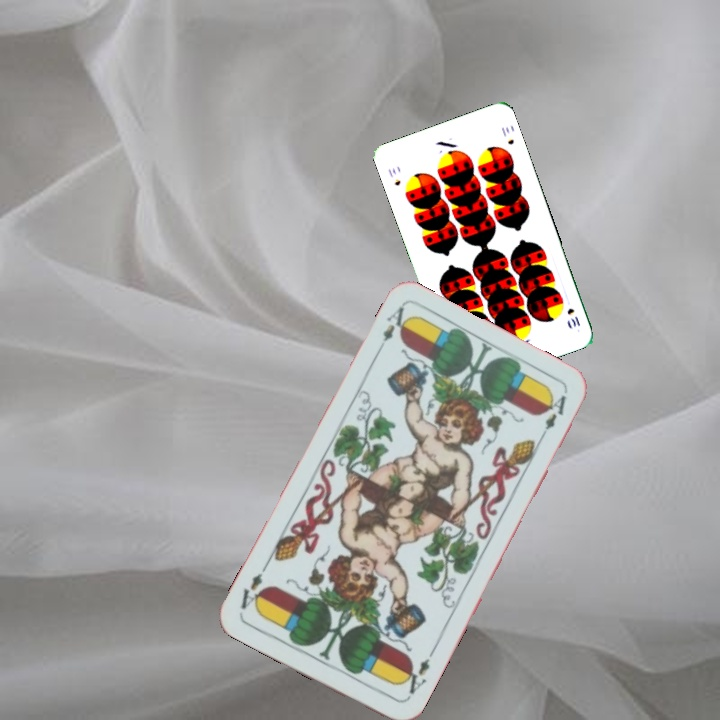EA: (372, 302, 413, 357), (397, 647, 436, 702)
S10: (563, 304, 583, 330), (384, 164, 403, 188)
